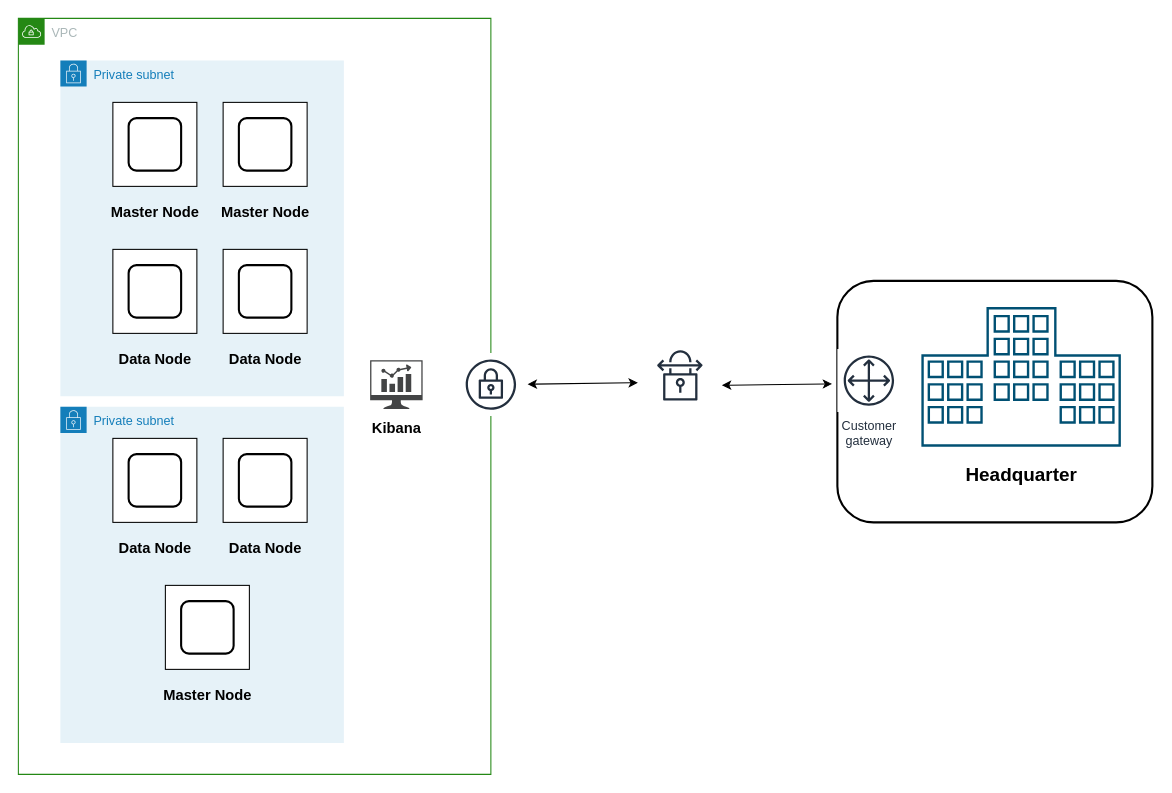
Some shapes in this 1172 by 793 pixel diagram are drawn without their labels. The centre of each missing label's shape, as x and y in pixels:
VPN Connection: point (679, 375)
VPN Gateway: point (490, 384)
